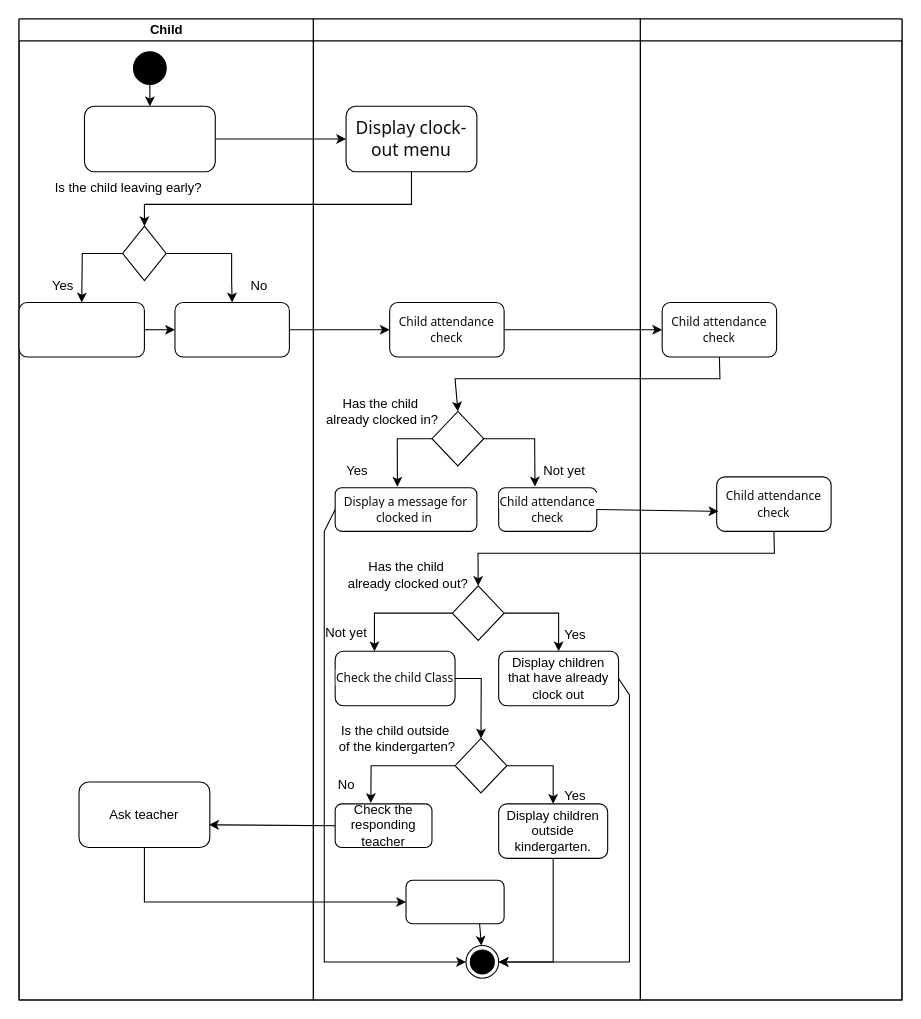
Some shapes in this 921 by 1019 pixel diagram are drawn without their labels. Here are the shapes that lost their labels. From the top down, the box of each, then its label:
(83, 105, 215, 172): Select clock-out in main men
(18, 301, 144, 357): fill in the description in the clock-out attendance
(174, 301, 289, 357): select the button for clock-out attendance
(312, 18, 640, 1000): Attendance system
(639, 18, 902, 1000): API system
(405, 879, 504, 924): Save data
